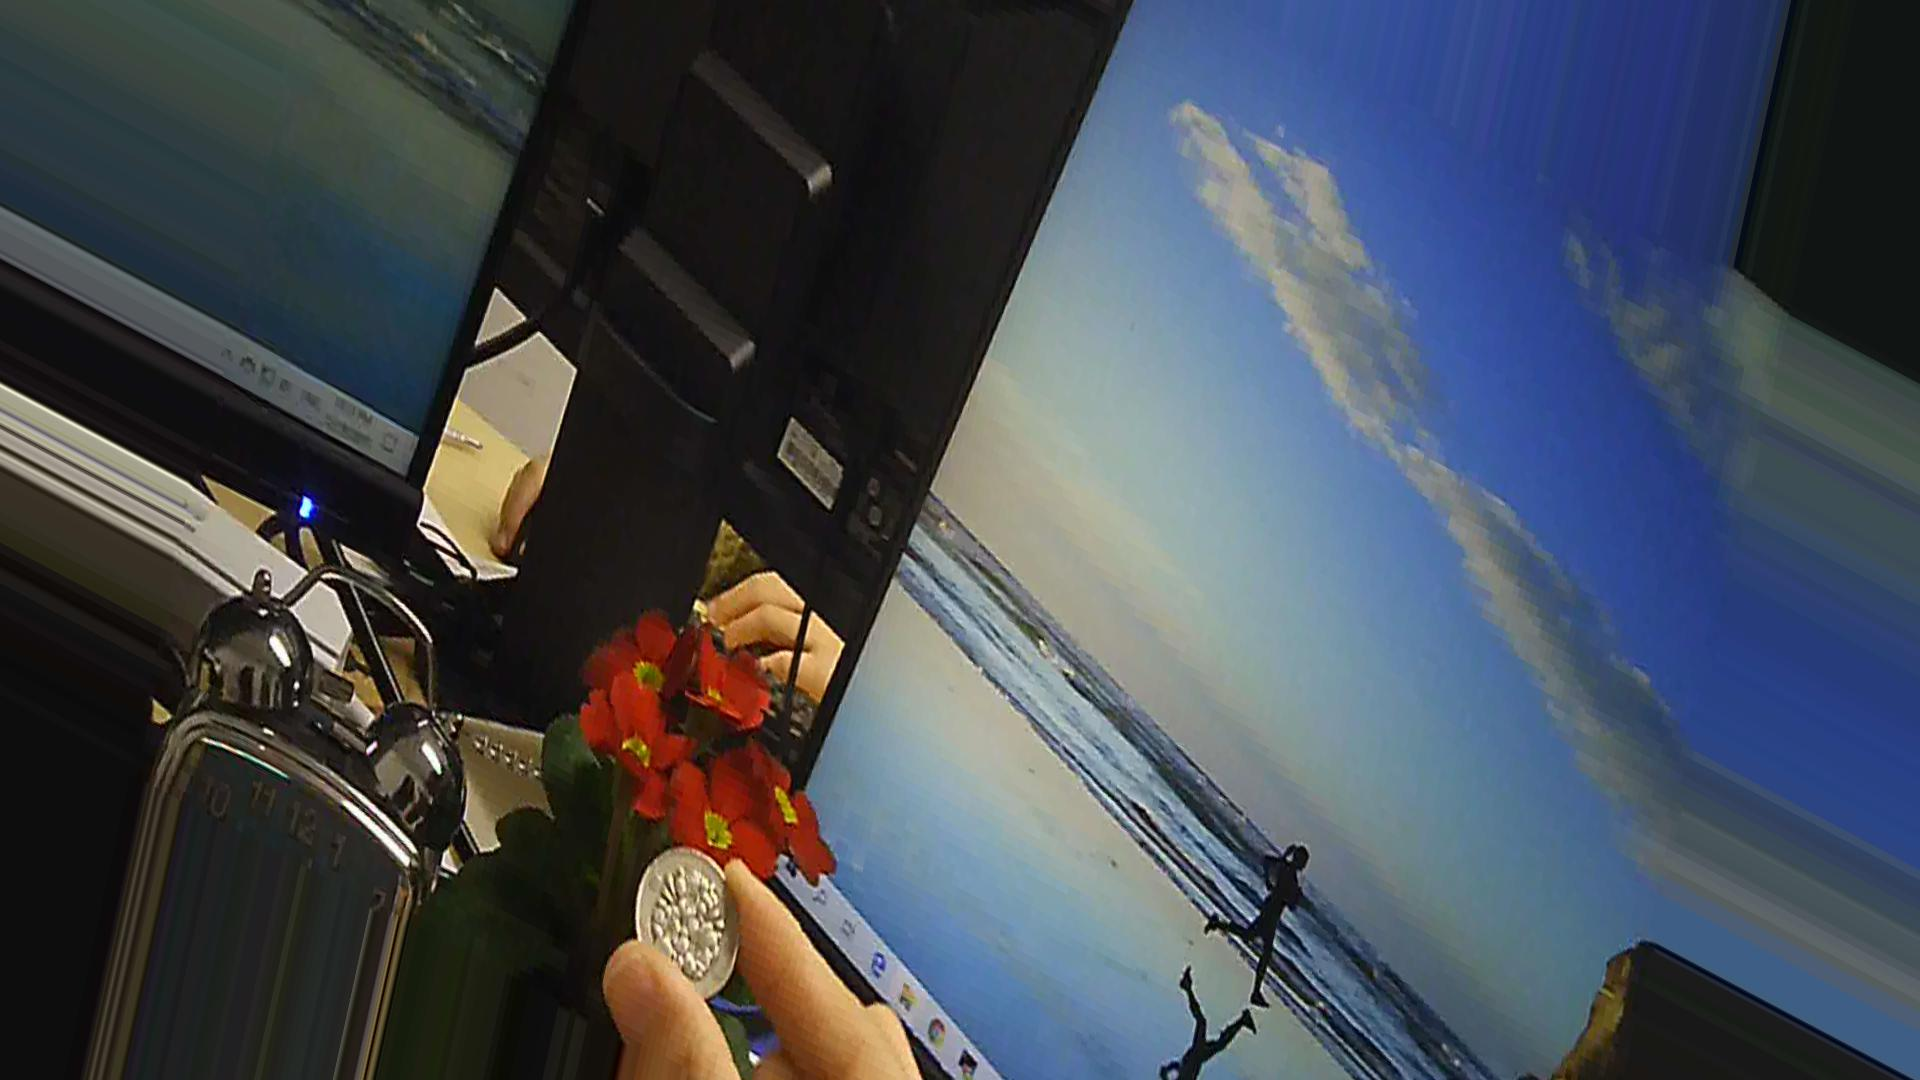100 Yen: (625, 827, 754, 1002)
